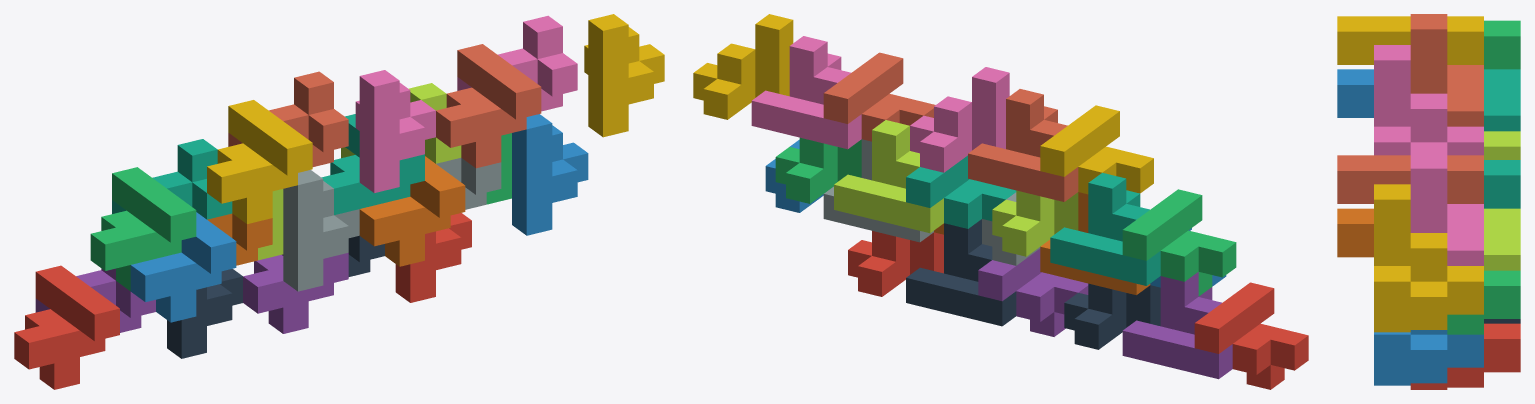
Rendered from tiling.obj.
3 views of the same model, side by side, from view 1: azimuth 30°, elevation 25°; view 2: azimuth 150°, elevation 25°; view 3: azimuth 270°, elevation 25° (orthographic). The views are drawn at different scales.
Parts seen in each view (by area): view 1: copy_1_domain_1, copy_1_domain_4, copy_1_domain_8, copy_1_domain_3, copy_2_domain_4, copy_2_domain_8, copy_2_domain_6, copy_2_domain_2, copy_1_domain_2, copy_1_domain_6, copy_1_domain_5, copy_3_domain_8 (+12 smaller); view 2: copy_1_domain_1, copy_1_domain_3, copy_3_domain_3, copy_3_domain_8, copy_3_domain_4, copy_2_domain_8, copy_2_domain_4, copy_3_domain_7, copy_3_domain_1, copy_3_domain_5, copy_1_domain_4, copy_1_domain_8 (+10 smaller); view 3: copy_2_domain_8, copy_2_domain_4, copy_3_domain_4, copy_3_domain_8, copy_2_domain_6, copy_1_domain_8, copy_1_domain_4, copy_2_domain_5, copy_2_domain_7, copy_3_domain_3, copy_3_domain_7, copy_1_domain_3 (+5 smaller).
Boxes of the visible parts, left/top/right/bottom form: copy_1_domain_1: left=14, top=265, right=119, bottom=389; copy_1_domain_4: left=207, top=100, right=312, bottom=223; copy_1_domain_8: left=436, top=44, right=541, bottom=168; copy_1_domain_3: left=90, top=167, right=196, bottom=290; copy_2_domain_4: left=355, top=70, right=435, bottom=193; copy_2_domain_8: left=584, top=14, right=664, bottom=137; copy_2_domain_6: left=512, top=114, right=588, bottom=235; copy_2_domain_2: left=283, top=170, right=359, bottom=291; copy_1_domain_2: left=130, top=212, right=236, bottom=322; copy_1_domain_6: left=359, top=156, right=465, bottom=266; copy_1_domain_5: left=243, top=252, right=348, bottom=333; copy_3_domain_8: left=457, top=15, right=577, bottom=111; copy_1_domain_1: left=1194, top=282, right=1308, bottom=389; copy_1_domain_3: left=1122, top=189, right=1236, bottom=296; copy_3_domain_3: left=1050, top=172, right=1160, bottom=285; copy_3_domain_8: left=751, top=36, right=861, bottom=149; copy_3_domain_4: left=968, top=89, right=1078, bottom=201; copy_2_domain_8: left=693, top=14, right=793, bottom=119; copy_2_domain_4: left=910, top=67, right=1009, bottom=172; copy_3_domain_7: left=834, top=120, right=943, bottom=233; copy_3_domain_1: left=1122, top=272, right=1232, bottom=379; copy_3_domain_5: left=906, top=219, right=1016, bottom=326; copy_1_domain_4: left=1040, top=105, right=1153, bottom=194; copy_1_domain_8: left=823, top=52, right=935, bottom=141; copy_2_domain_8: left=1374, top=184, right=1483, bottom=332; copy_2_domain_4: left=1374, top=45, right=1483, bottom=155; copy_3_domain_4: left=1410, top=14, right=1483, bottom=126; copy_3_domain_8: left=1410, top=153, right=1483, bottom=265; copy_2_domain_6: left=1374, top=330, right=1483, bottom=385; copy_1_domain_8: left=1337, top=155, right=1483, bottom=203; copy_1_domain_4: left=1337, top=16, right=1483, bottom=64; copy_2_domain_5: left=1410, top=323, right=1520, bottom=389; copy_2_domain_7: left=1447, top=270, right=1520, bottom=334; copy_3_domain_3: left=1484, top=69, right=1520, bottom=131; copy_3_domain_7: left=1484, top=208, right=1520, bottom=270; copy_1_domain_3: left=1484, top=20, right=1520, bottom=69.
Size of the model in its own units: 25 by 9 by 5.
